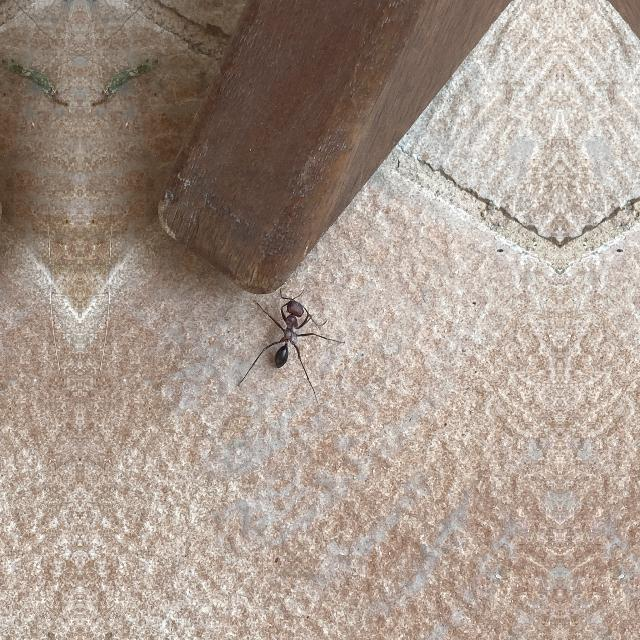Cataglyphis: (262, 290, 316, 380)
